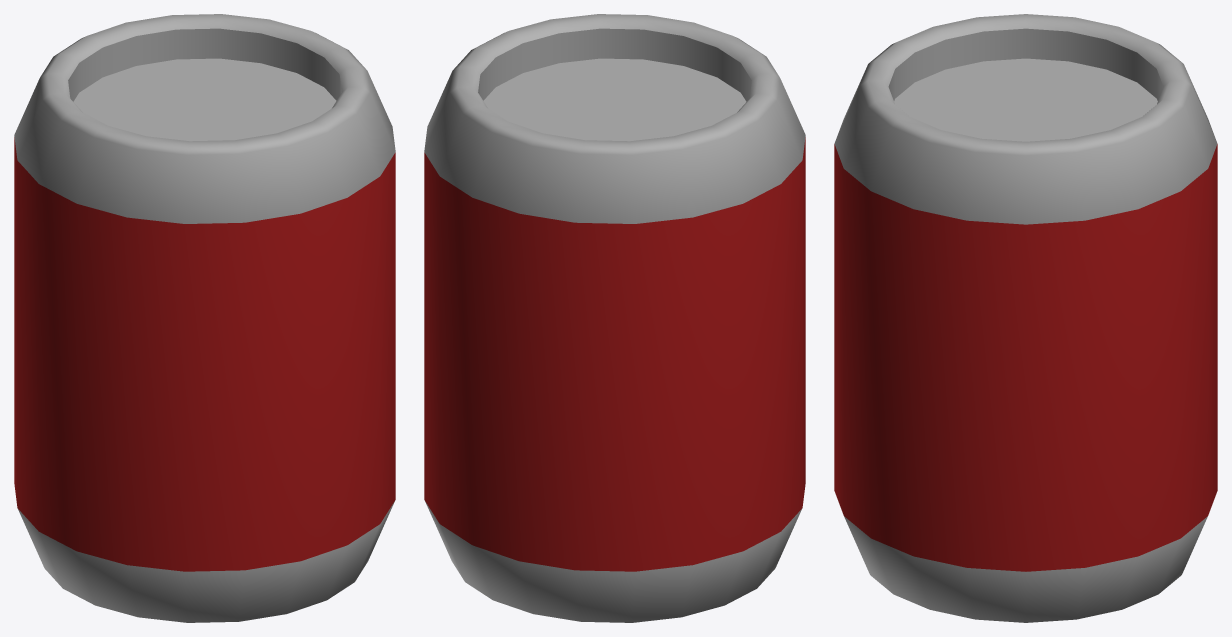
The model's file is Coke.fbx.
3 renders of one model, left to right at view 1: azimuth 30°, elevation 25°; view 2: azimuth 150°, elevation 25°; view 3: azimuth 270°, elevation 25°, orthographic.
Visible parts, largest first — view 1: Coke_Can; view 2: Coke_Can; view 3: Coke_Can.
Boxes of the visible parts, x1,y1,x2,y2 form: Coke_Can: [14, 14, 395, 622]; Coke_Can: [424, 14, 805, 622]; Coke_Can: [834, 14, 1217, 622].
Bounding box in the file's own units: 2.58 × 3.52 × 2.58.
